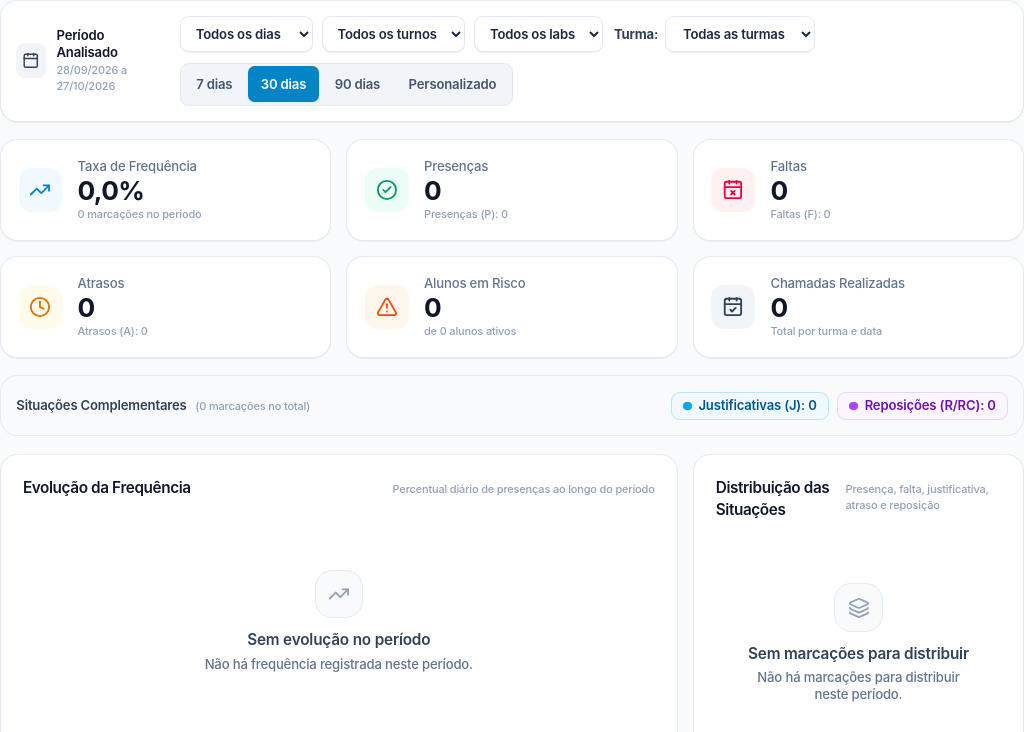
Test case: DashboardPage › switches between presets (7, 30, 90 days) and custom range
// Switch to 7 days
Click the button "7 dias". click: coordinates (214, 84)
box: [183,66,246,102]
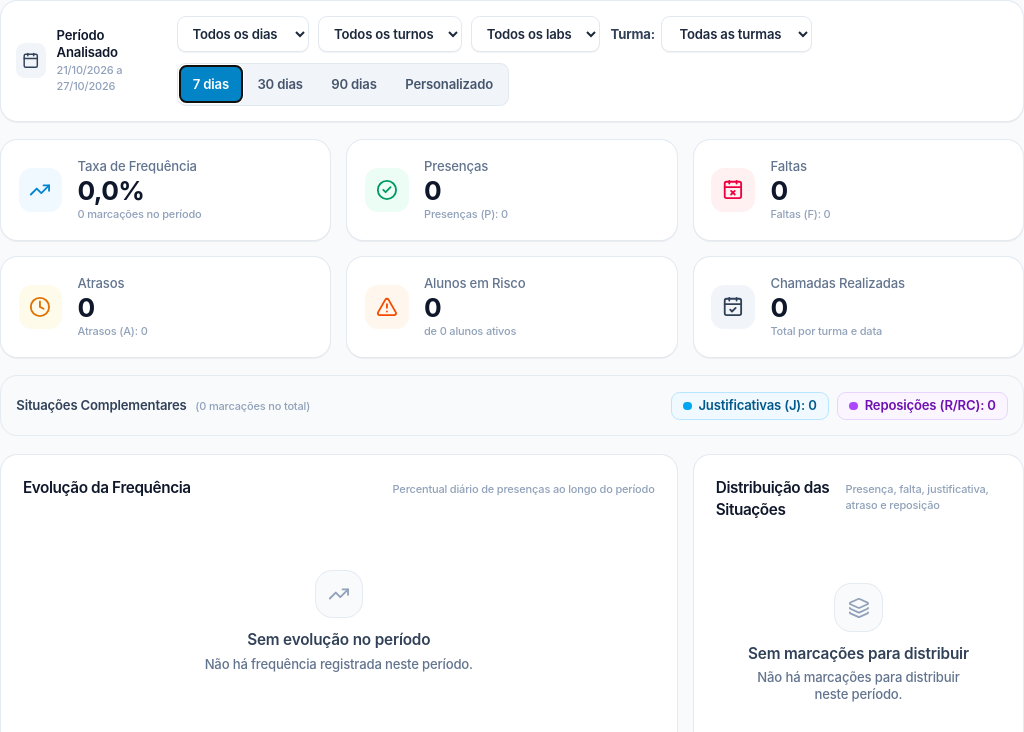
Check: the button "7 dias" has class "bg-slate-950", box [180,66,242,102]
Check: the button "30 dias" does not have class "bg-slate-950", box [244,66,316,102]
// Switch to 90 days
Click the button "90 dias". click: coordinates (354, 84)
box: [318,66,390,102]
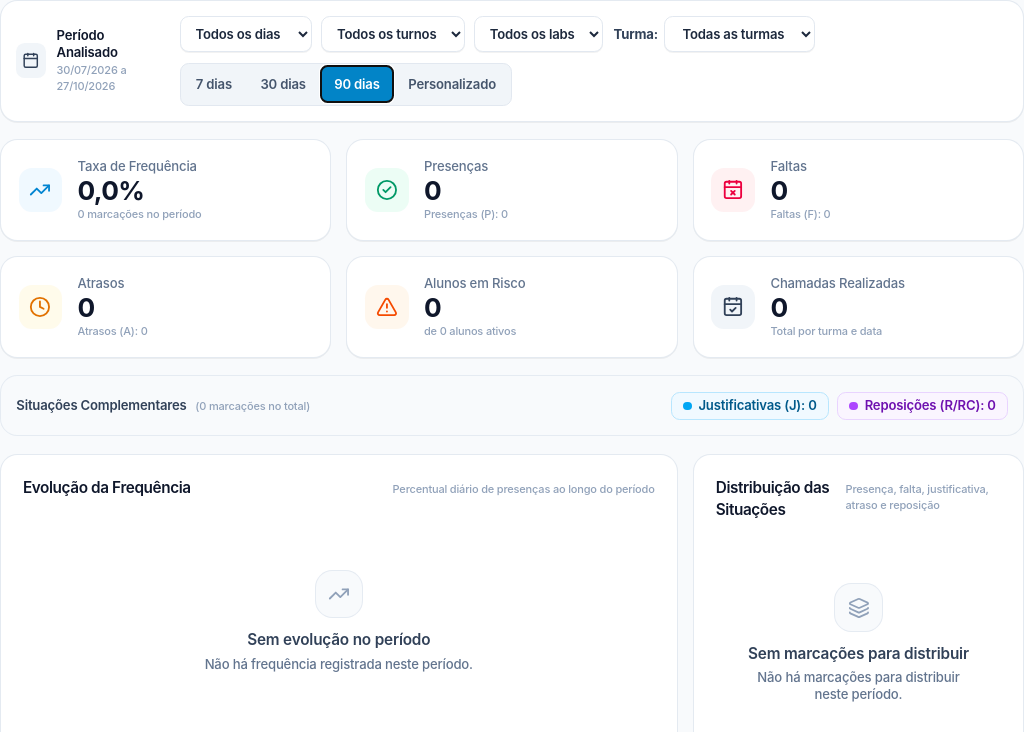
Check: the button "90 dias" has class "bg-slate-950", box [321,66,393,102]
Check: the button "7 dias" does not have class "bg-slate-950", box [183,66,245,102]
// Switch to Custom
Click the button "Personalizado". click: coordinates (452, 84)
box: [395,66,509,102]
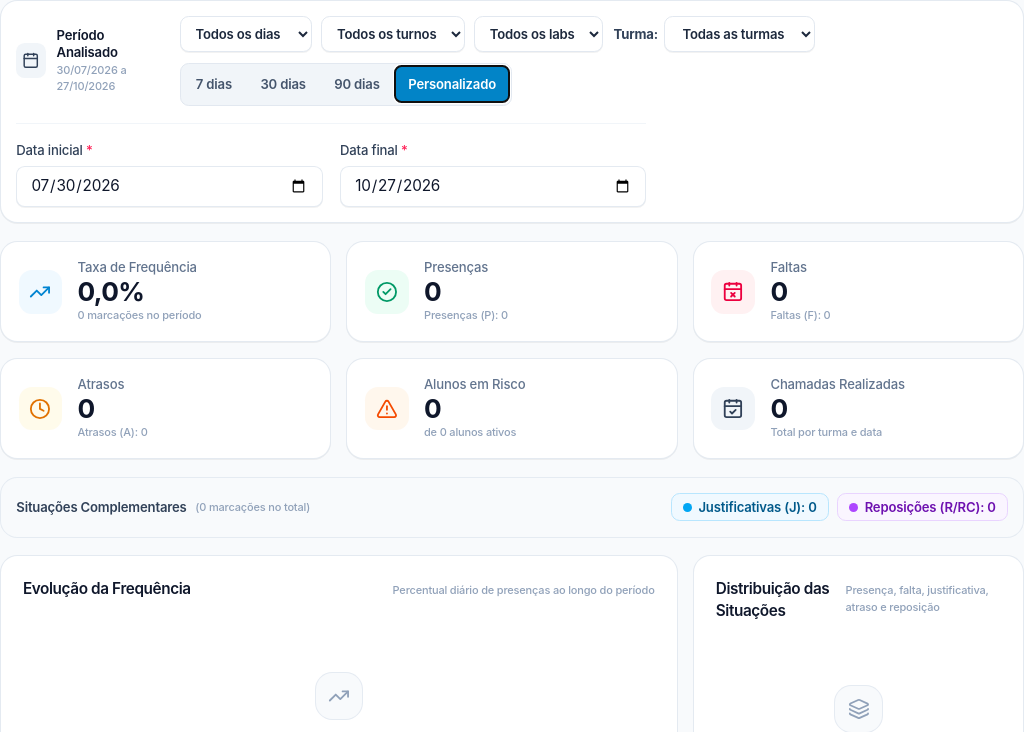
Check: the date field labelled "Data inicial *" is shown, box [16,166,323,207]
Check: the date field labelled "Data final *" is shown, box [340,166,646,207]
